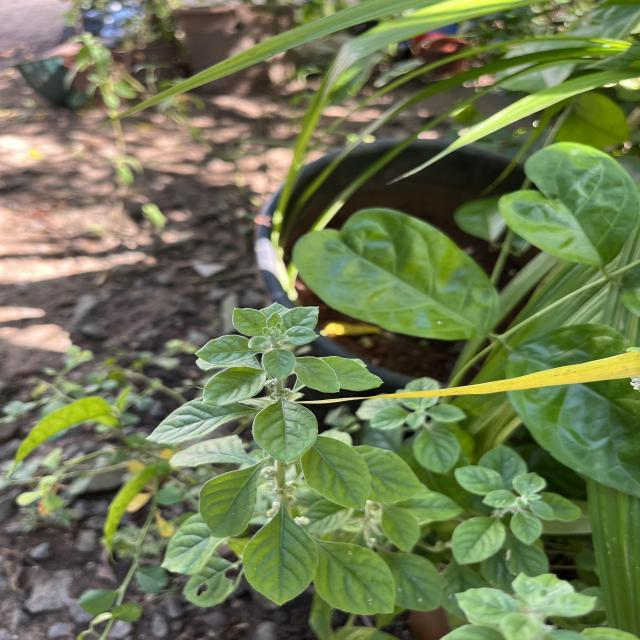Aerva lanata: (239, 508, 322, 607), (297, 432, 373, 512), (195, 459, 270, 540), (141, 394, 251, 448), (250, 398, 320, 467), (198, 363, 270, 409), (318, 354, 390, 392), (192, 331, 260, 367), (294, 354, 343, 396)
